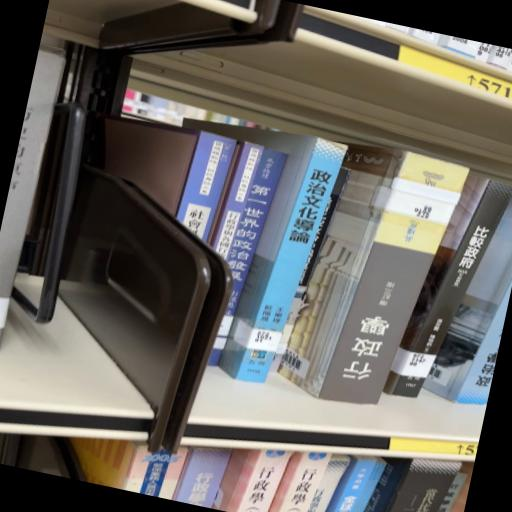reverse: (278, 143, 468, 404)
